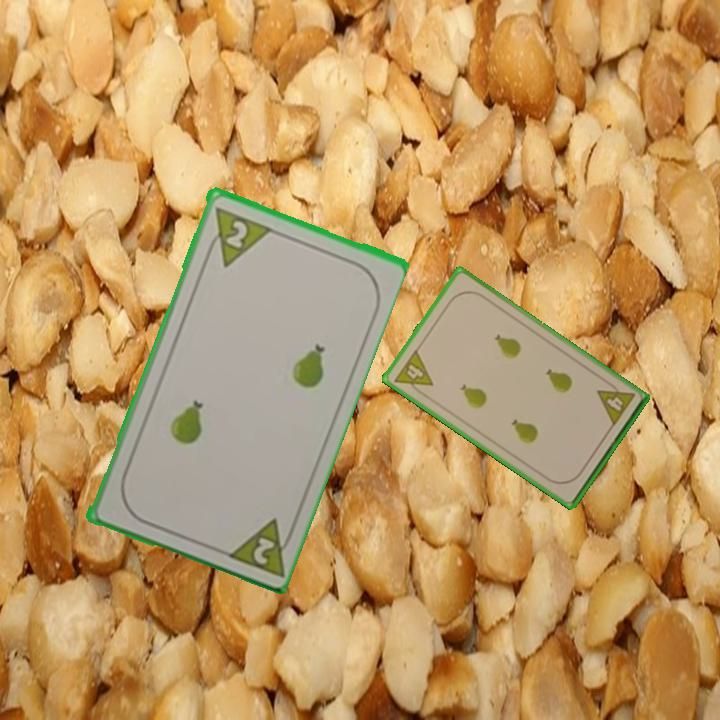2p: (220, 513, 299, 579), (200, 202, 272, 270)
4p: (390, 346, 436, 400), (593, 377, 637, 429)
